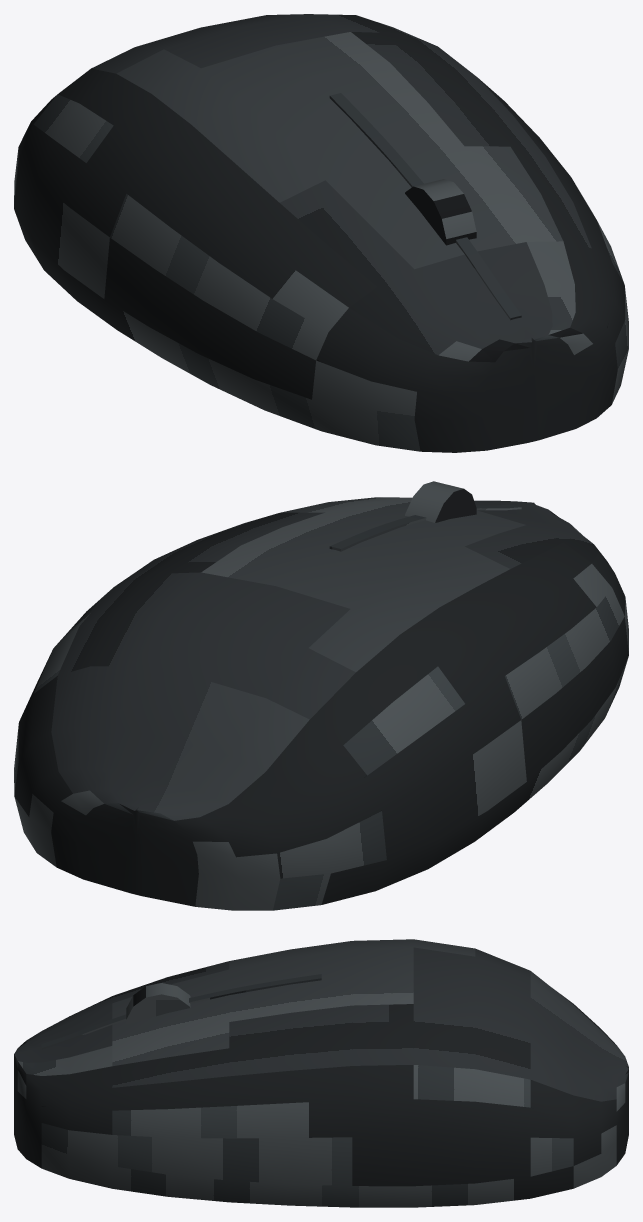
Rendered from office_mouse_lowered.obj.
The picture shows the model from 3 angles, top to bottom: view 1: azimuth 30°, elevation 25°; view 2: azimuth 150°, elevation 25°; view 3: azimuth 270°, elevation 25°; orthographic projection. The views are drawn at different scales.
Visible parts, largest first — view 1: mouse_shell, mouse_scroll_wheel, mouse_button_split; view 2: mouse_shell, mouse_scroll_wheel, mouse_button_split; view 3: mouse_shell, mouse_scroll_wheel, mouse_button_split.
Boxes of the visible parts, x1,y1,x2,y2 form: mouse_shell: (14,14,628,452); mouse_scroll_wheel: (405,179,476,245); mouse_button_split: (329,93,521,320); mouse_shell: (14,497,628,910); mouse_scroll_wheel: (405,481,476,522); mouse_button_split: (329,504,521,551); mouse_shell: (14,939,628,1207); mouse_scroll_wheel: (126,983,190,1024); mouse_button_split: (41,974,321,1049).
Bounding box in the file's own units: 0.1308 × 0.0611 × 0.2125.
